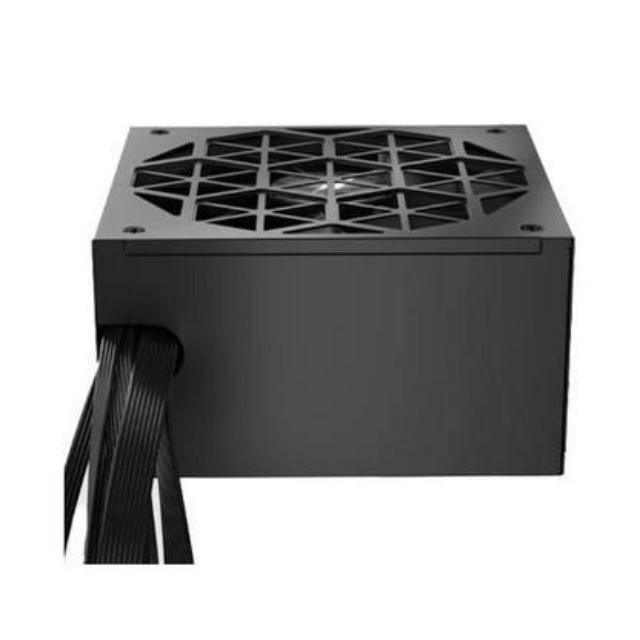PSU: (99, 88, 576, 492)
